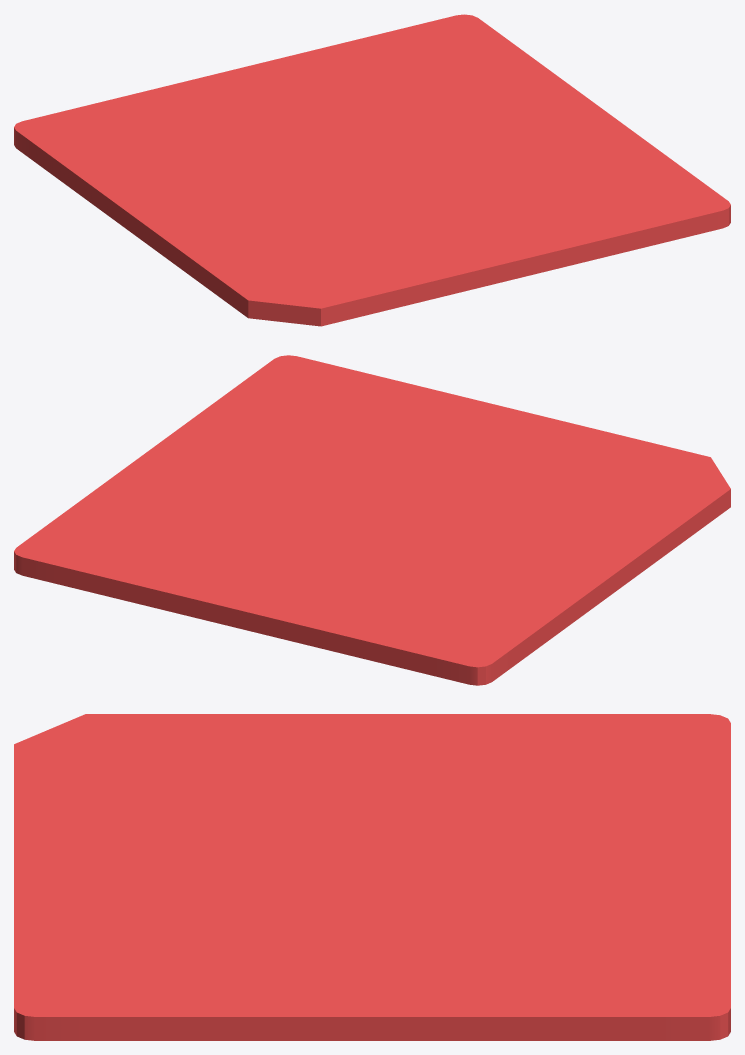
File: C_FloppyDisk.fbx
3 views of the same model, one above another, from view 1: azimuth 30°, elevation 25°; view 2: azimuth 150°, elevation 25°; view 3: azimuth 270°, elevation 25° (orthographic). The views are drawn at different scales.
Parts seen in each view (by area): view 1: C_FloppyDisk; view 2: C_FloppyDisk; view 3: C_FloppyDisk.
Part boxes in pixels (<box>): C_FloppyDisk: <box>14,14,730,326</box>; C_FloppyDisk: <box>14,355,730,685</box>; C_FloppyDisk: <box>14,714,730,1040</box>.
Bounding box in the file's own units: 1.44 × 0.0532 × 1.44.
Materials: 1 (1 with a texture image).
